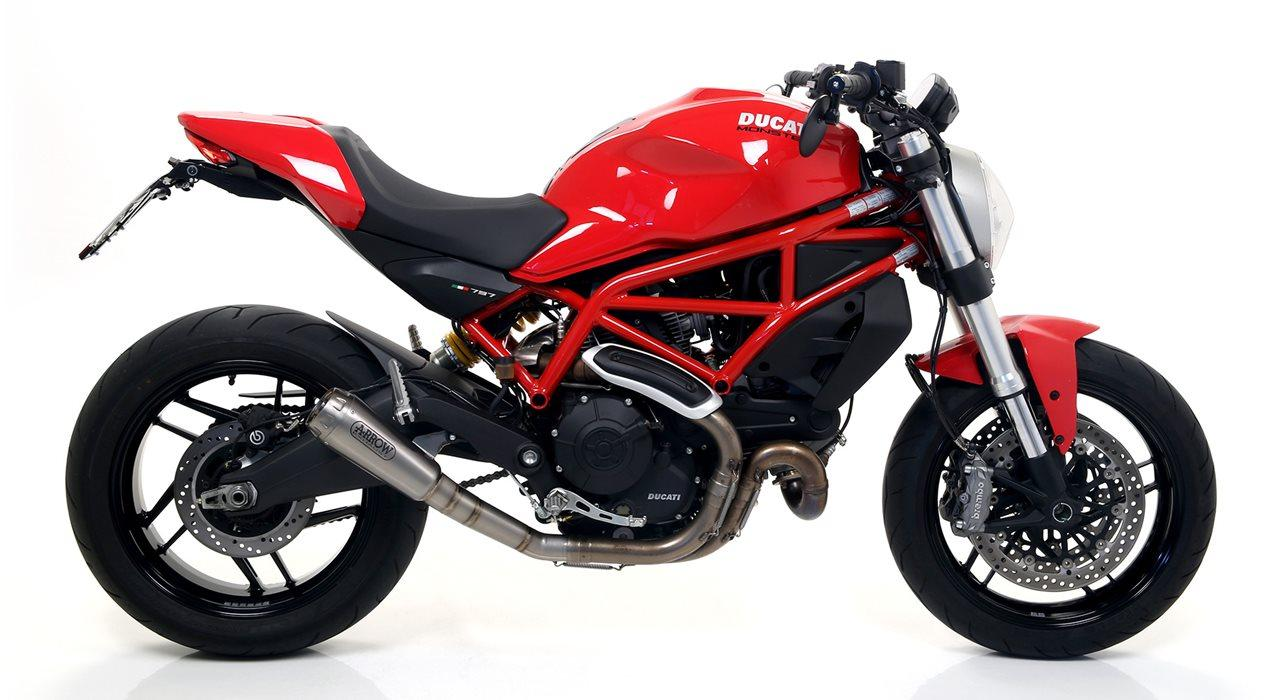engine-chasis: (504, 185, 898, 539), (481, 294, 549, 339), (428, 323, 482, 374)
exhaust: (304, 342, 829, 571)
frontside: (742, 130, 1101, 534)
handlebar: (765, 59, 960, 174)
motorbike: (65, 58, 1217, 658)
rearside: (77, 109, 588, 488), (195, 430, 387, 518)
seat: (320, 126, 567, 269)
tank: (508, 87, 862, 284)
wheel: (65, 304, 429, 657), (882, 338, 1218, 658), (904, 206, 977, 459), (459, 469, 509, 488)
